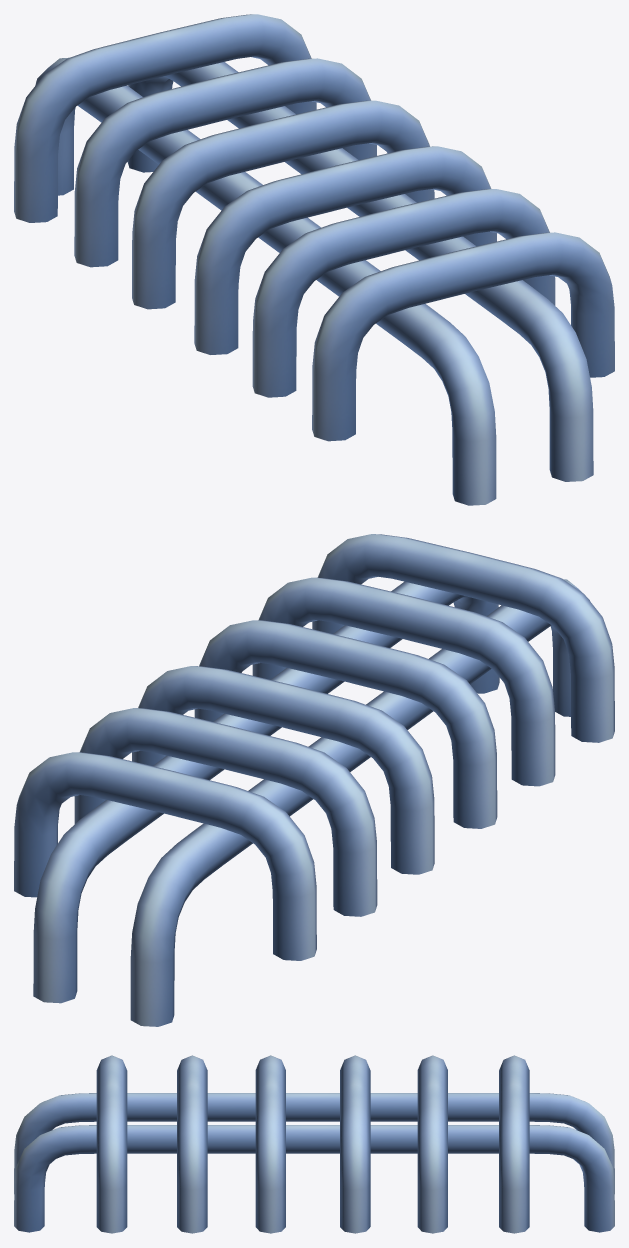
Rendered from Lock_3.fbx.
3 renders of one model, top to bottom at view 1: azimuth 30°, elevation 25°; view 2: azimuth 150°, elevation 25°; view 3: azimuth 270°, elevation 25°, orthographic. The views are drawn at different scales.
Parts seen in each view (by area): view 1: lock_3; view 2: lock_3; view 3: lock_3.
Part boxes in pixels (box(x1,y1,x2,y2)): lock_3: box(14, 14, 614, 505); lock_3: box(14, 534, 614, 1026); lock_3: box(14, 1055, 614, 1233).
Bounding box in the file's own units: 1.29 × 0.779 × 3.34.
